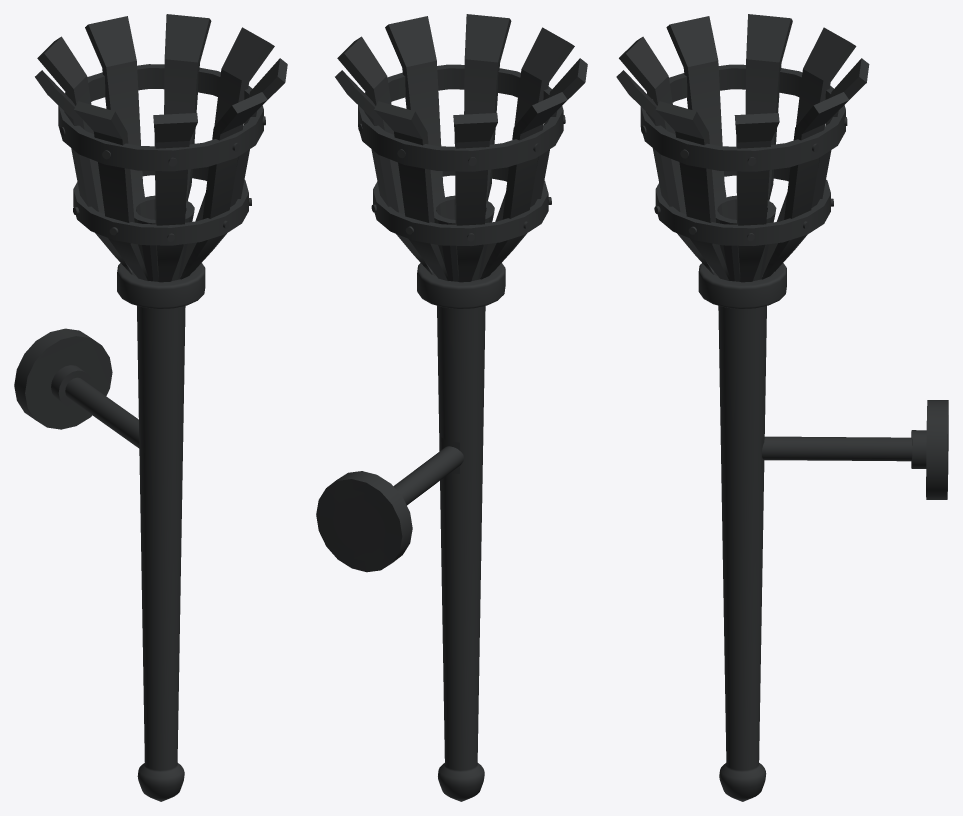
Rendered from Torch.glb.
3 views of the same model, side by side, from view 1: azimuth 30°, elevation 25°; view 2: azimuth 150°, elevation 25°; view 3: azimuth 270°, elevation 25° (orthographic).
Visible parts, largest first — view 1: Cylinder001; view 2: Cylinder001; view 3: Cylinder001.
Boxes of the visible parts, x1,y1,x2,y2 form: Cylinder001: (14,14,287,801); Cylinder001: (316,14,587,801); Cylinder001: (616,14,948,801).
Bounding box in the file's own units: 0.189 × 0.6042 × 0.247.
Materials: 1 (1 with a texture image).
